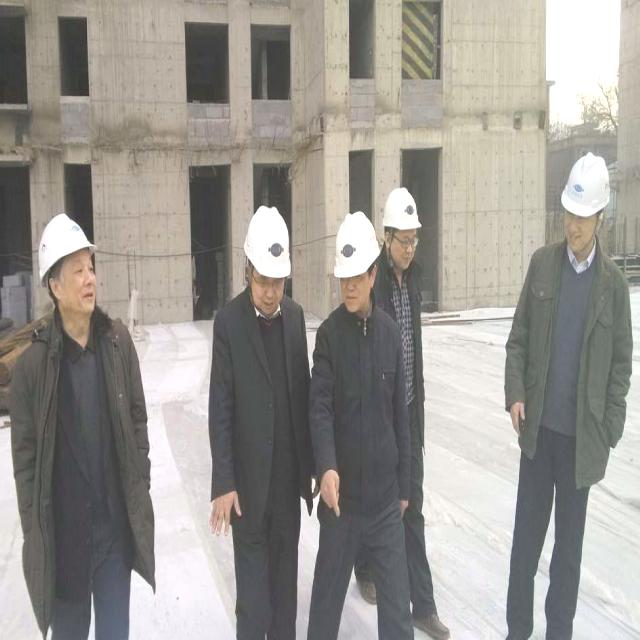face_nomask: (51, 252, 104, 314), (243, 265, 286, 320), (336, 269, 371, 322), (560, 206, 593, 250), (392, 227, 419, 276)
hand_noglove: (207, 491, 249, 542), (318, 468, 344, 516), (510, 395, 528, 440)
head_helmet: (32, 213, 103, 279), (243, 206, 295, 278), (559, 151, 616, 216), (331, 212, 381, 277), (382, 184, 425, 230)
person: (505, 155, 622, 640), (24, 215, 140, 640), (379, 188, 456, 640), (314, 213, 391, 640), (230, 206, 301, 640)
